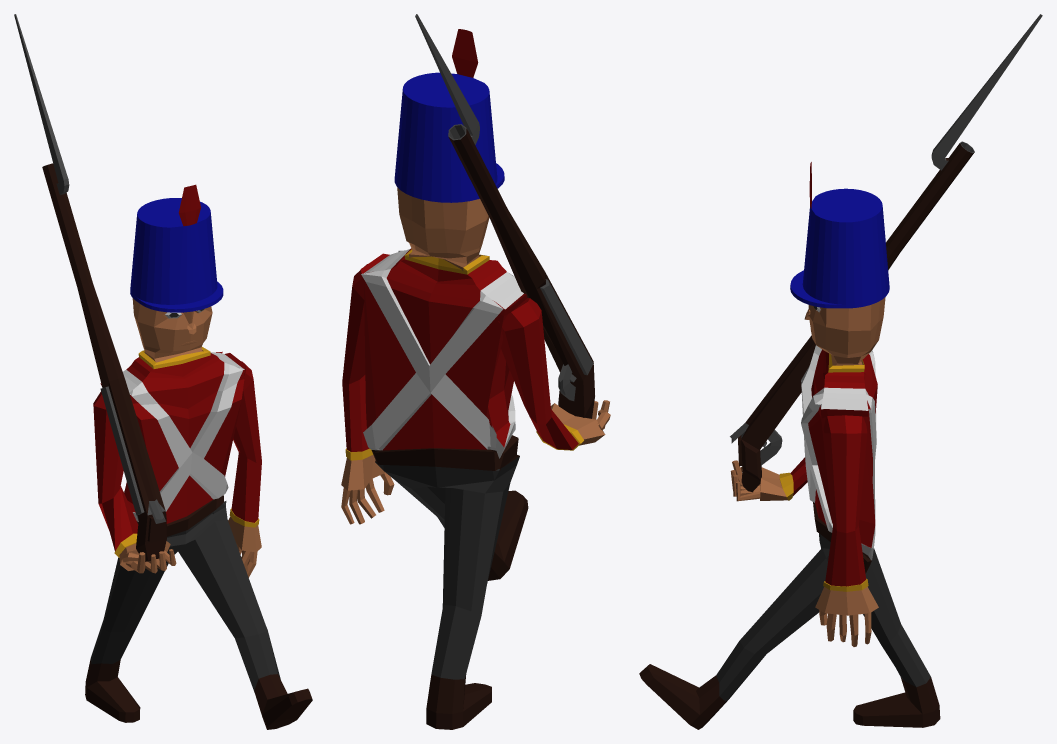
Rendered from frame4.obj.
The picture shows the model from 3 angles, left to right: view 1: azimuth 30°, elevation 25°; view 2: azimuth 150°, elevation 25°; view 3: azimuth 270°, elevation 25°; orthographic projection. The views are drawn at different scales.
Parts seen in each view (by area): view 1: {Man}_Circle, {Mesket}_Cube.001; view 2: {Man}_Circle, {Mesket}_Cube.001; view 3: {Man}_Circle, {Mesket}_Cube.001.
Boxes of the visible parts, x1,y1,x2,y2 form: {Man}_Circle: (85,184,312,729); {Mesket}_Cube.001: (14,14,167,561); {Man}_Circle: (341,29,610,729); {Mesket}_Cube.001: (415,14,594,418); {Man}_Circle: (639,162,940,729); {Mesket}_Cube.001: (730,14,1042,492).
Bounding box in the file's own units: 5.63 × 19.31 × 10.22.
